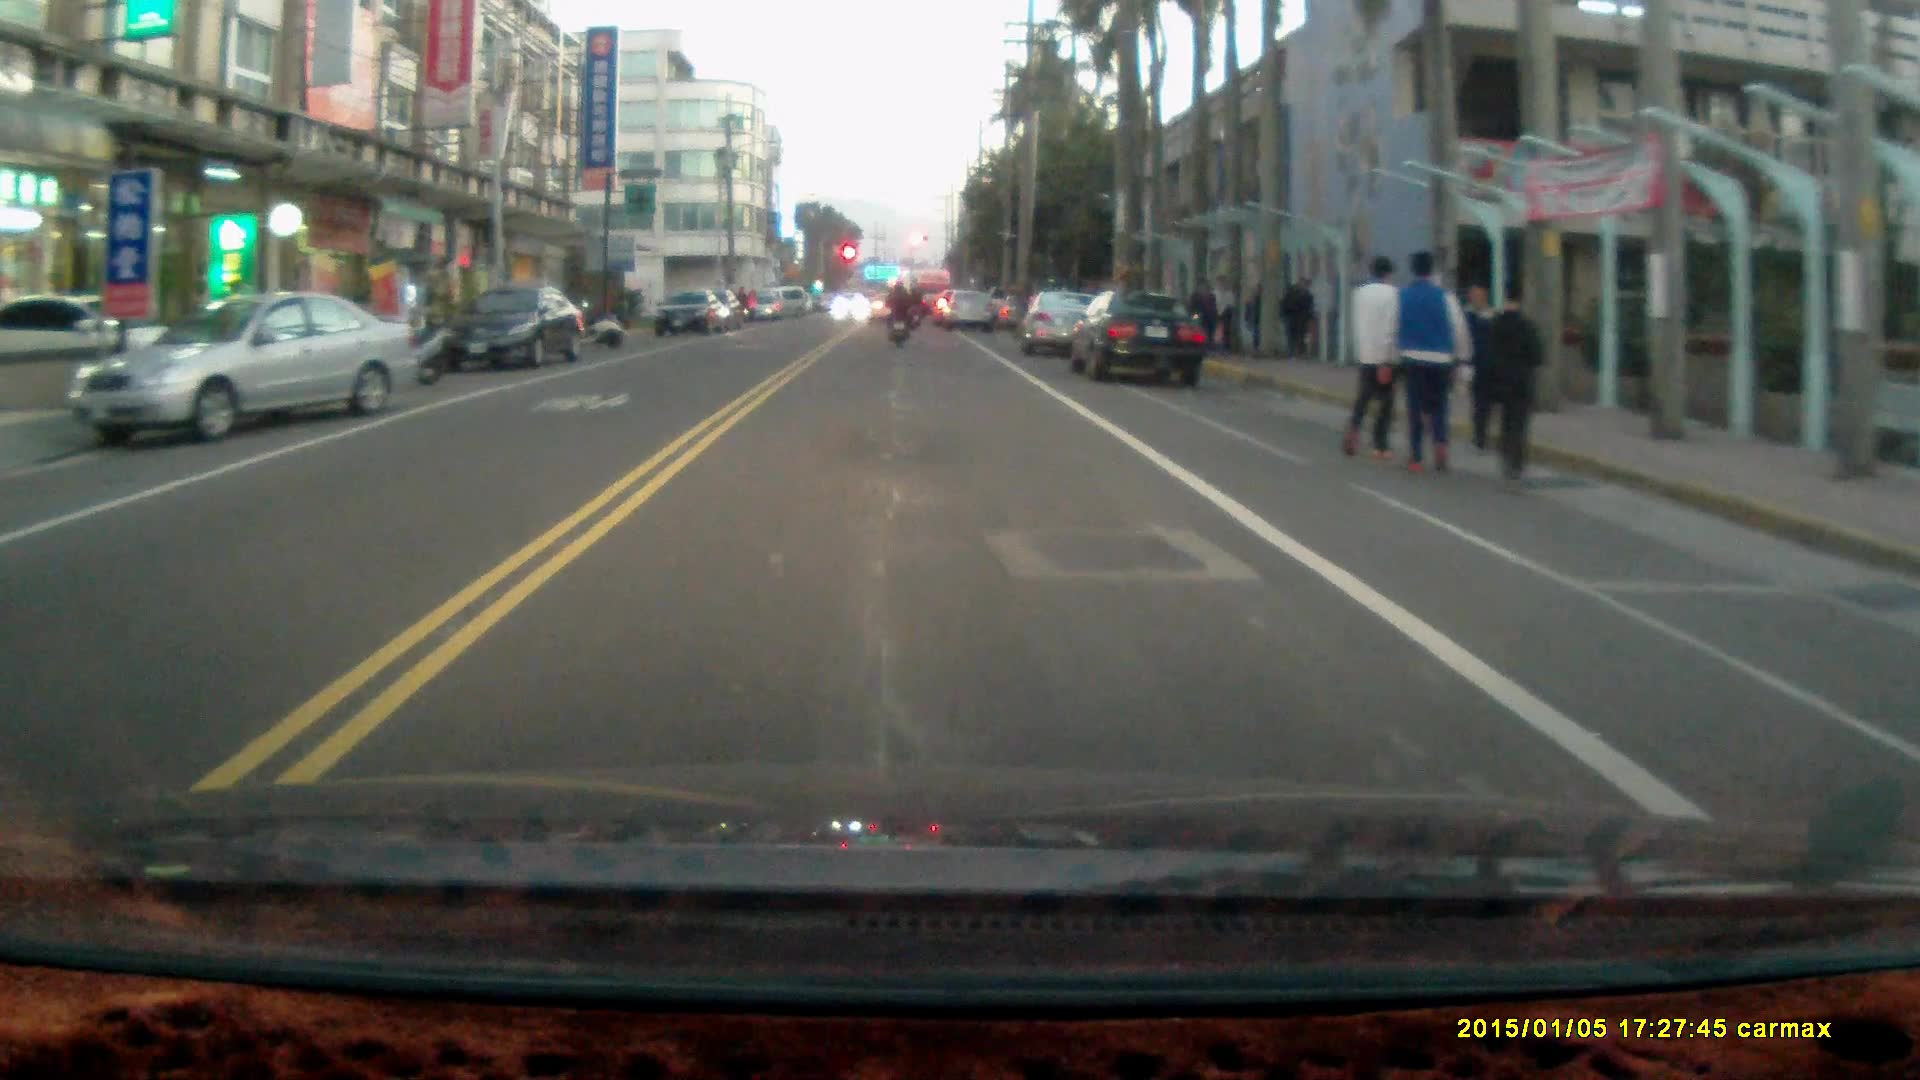pedestrian: (1376, 246, 1470, 479), (1482, 277, 1549, 486), (1338, 250, 1402, 464), (1456, 279, 1503, 458), (1281, 273, 1317, 359), (1184, 276, 1220, 358), (1207, 273, 1237, 361)
rider: (882, 280, 913, 351)
vehicle: (70, 292, 413, 444), (1071, 291, 1211, 387), (449, 283, 588, 370), (1025, 291, 1089, 356), (656, 287, 733, 339), (943, 289, 997, 334)
